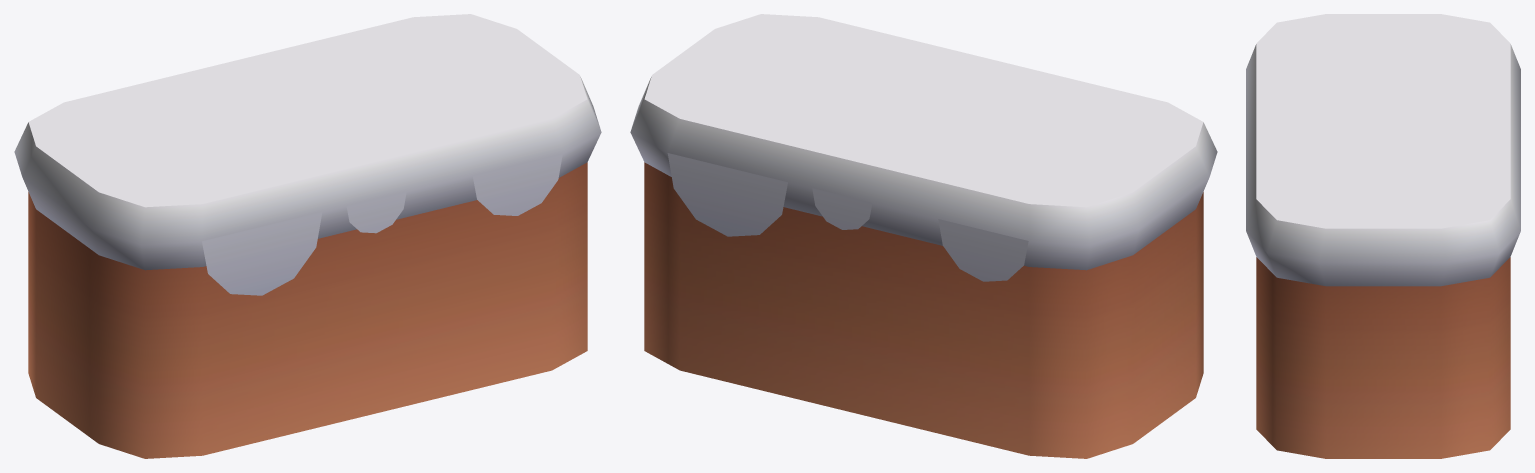
Rendered from kenney-platformer-block-snow-overhang-long.glb.
3 views of the same model, side by side, from view 1: azimuth 30°, elevation 25°; view 2: azimuth 150°, elevation 25°; view 3: azimuth 270°, elevation 25° (orthographic). The views are drawn at different scales.
Parts seen in each view (by area): view 1: block-snow-overhang-long; view 2: block-snow-overhang-long; view 3: block-snow-overhang-long.
Boxes of the visible parts, x1,y1,x2,y2 form: block-snow-overhang-long: [14, 14, 601, 458]; block-snow-overhang-long: [630, 14, 1217, 458]; block-snow-overhang-long: [1246, 14, 1520, 458].
Bounding box in the file's own units: 2.08 × 1 × 1.08.
Materials: 1 (1 with a texture image).
